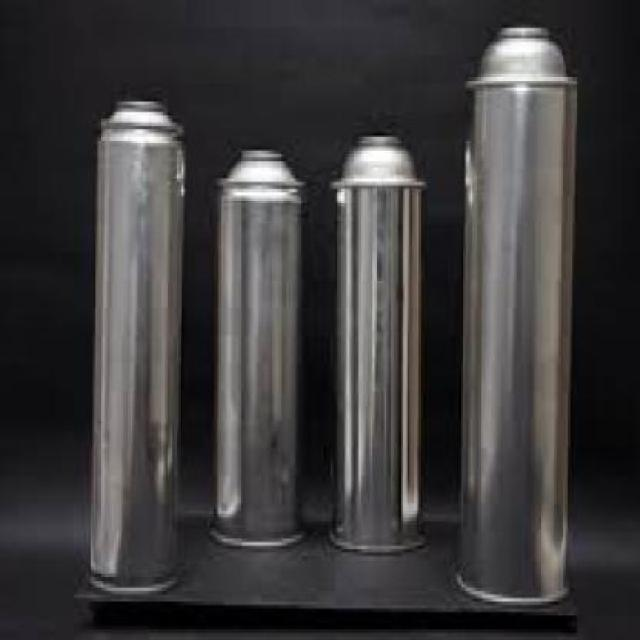METAL: (454, 21, 566, 602), (96, 98, 184, 592), (328, 133, 422, 553), (214, 146, 300, 549)
